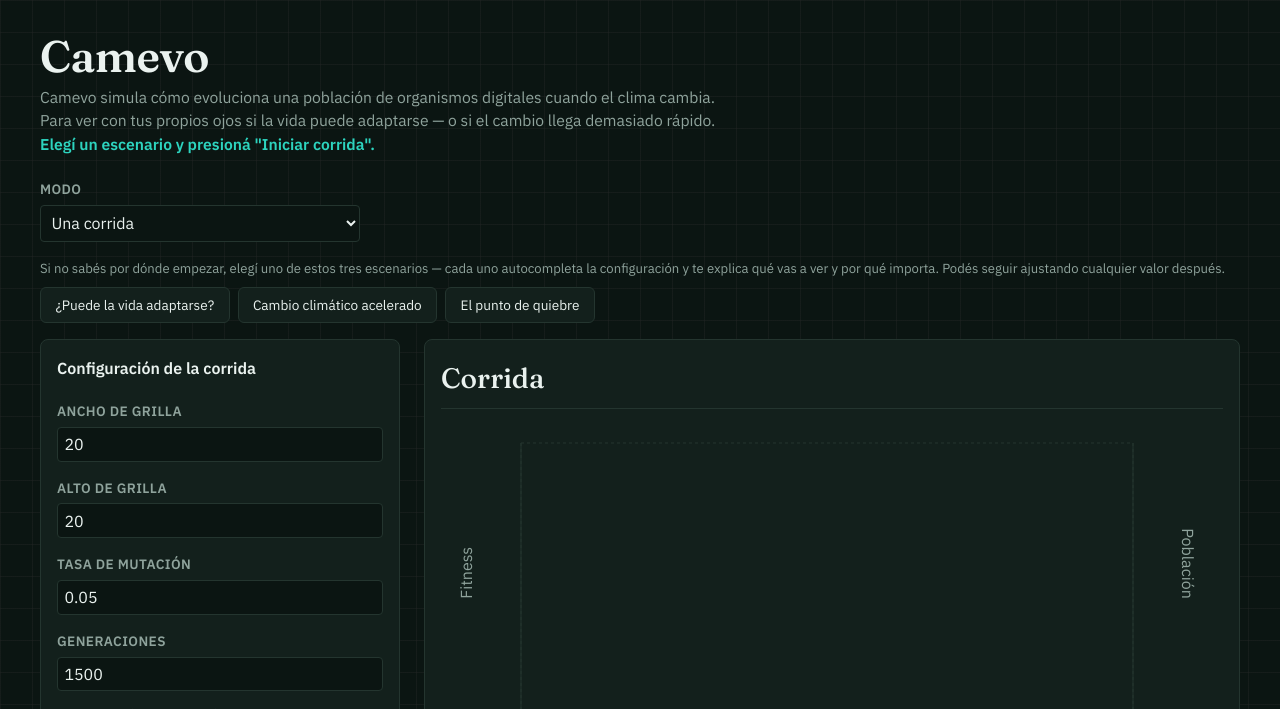
Test case: <App /> › modo comparación: arranca dos corridas con velocidades distintas y muestra dos paneles (RF-025)
This screenshot has width=1280, height=709.
Select "Comparar dos corridas nuevas (en vivo)" in the dropdown labelled "Modo" at {"x": 200, "y": 223}, box [40,205,360,242]
(page scrolled)
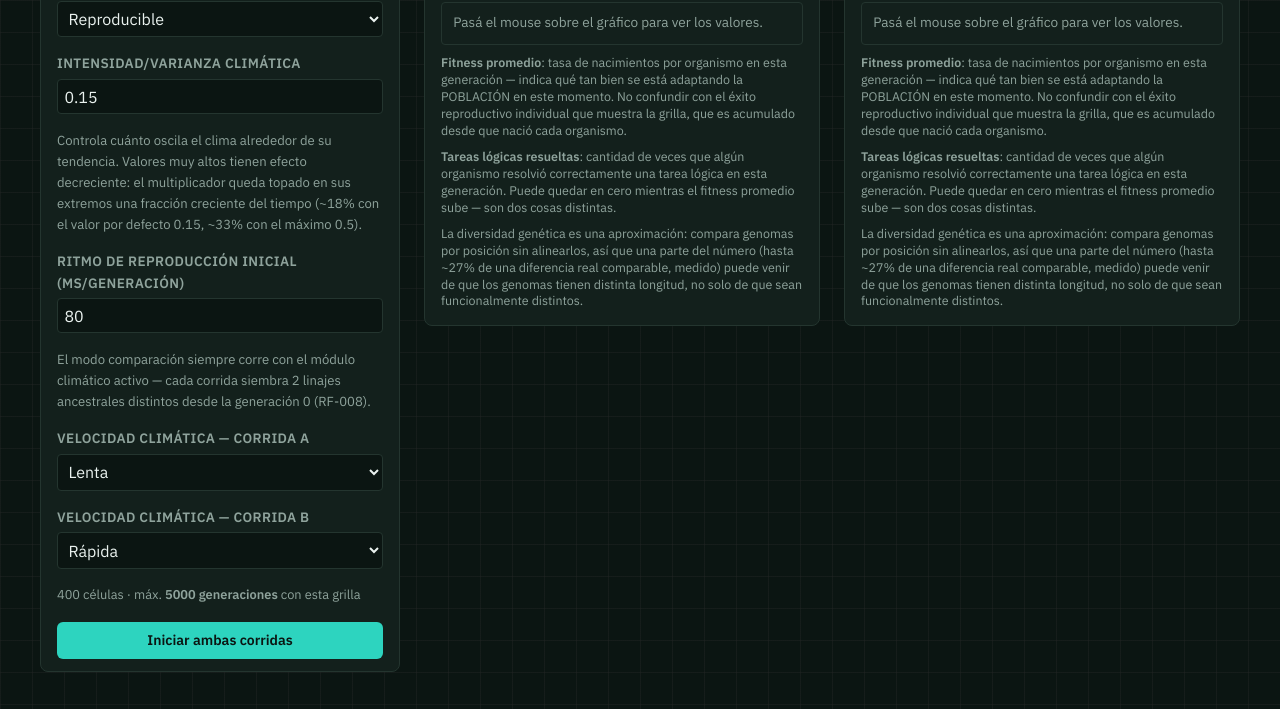
Expected: the dropdown labelled "Velocidad climática — Corrida A" is shown, [57,454,383,491]
Expected: the dropdown labelled "Velocidad climática — Corrida B" is shown, [57,532,383,569]
Click the button "Iniciar ambas corridas".
click(220, 640)  # box [57,622,383,659]
(page scrolled)
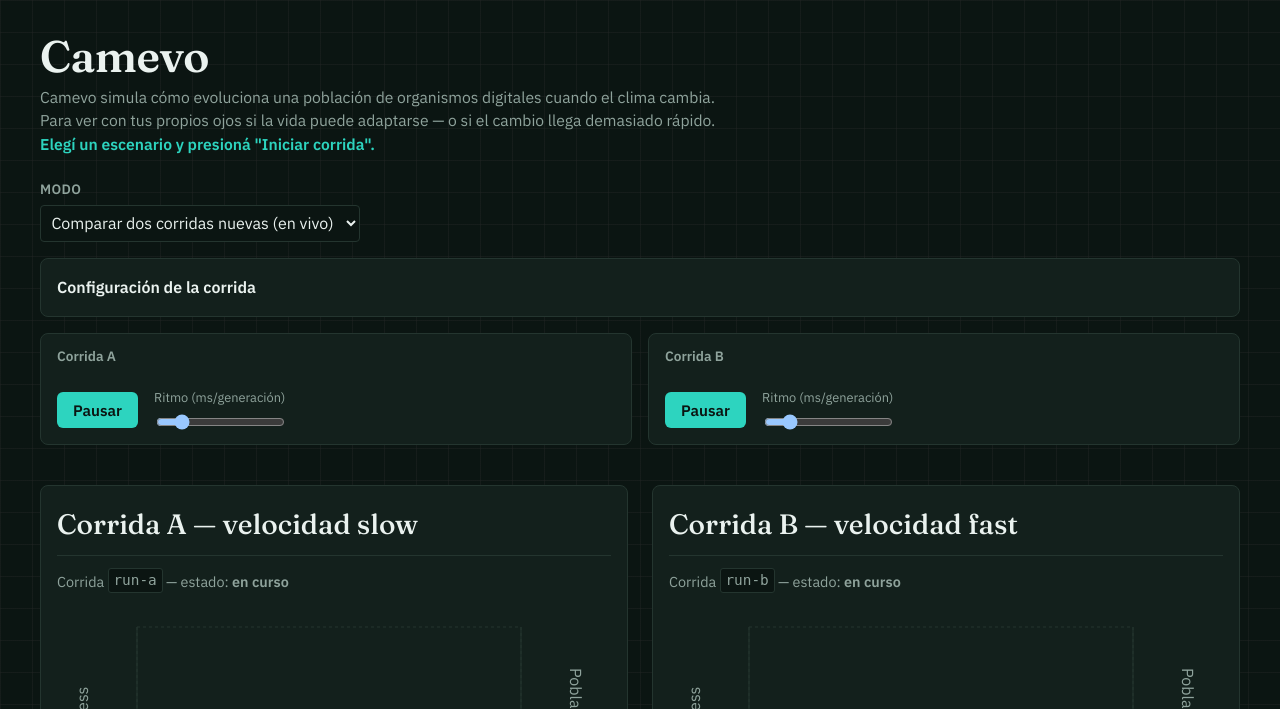
Now the text "run-a" is shown, box [108,568,162,593]
Now the text "run-b" is shown, box [720,568,774,593]
